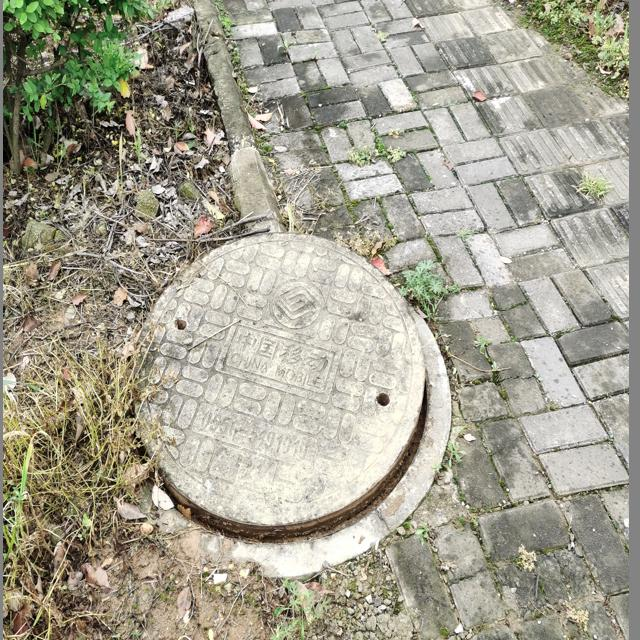uncovered: (136, 228, 451, 575)
